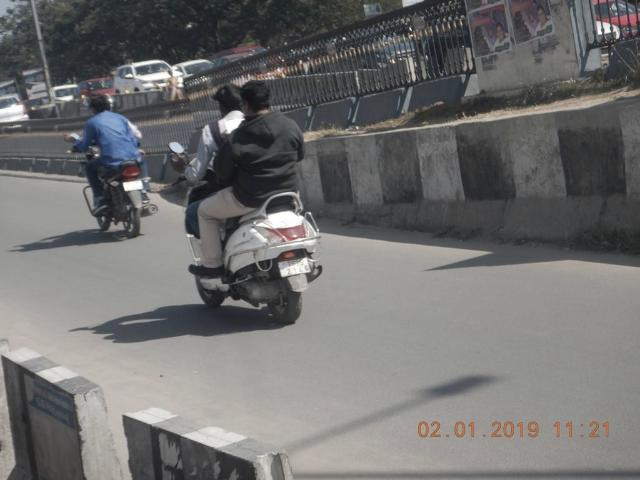motor: (166, 139, 327, 331), (62, 131, 162, 240)
non-helm: (240, 80, 274, 118), (212, 84, 244, 121), (89, 94, 114, 118)
